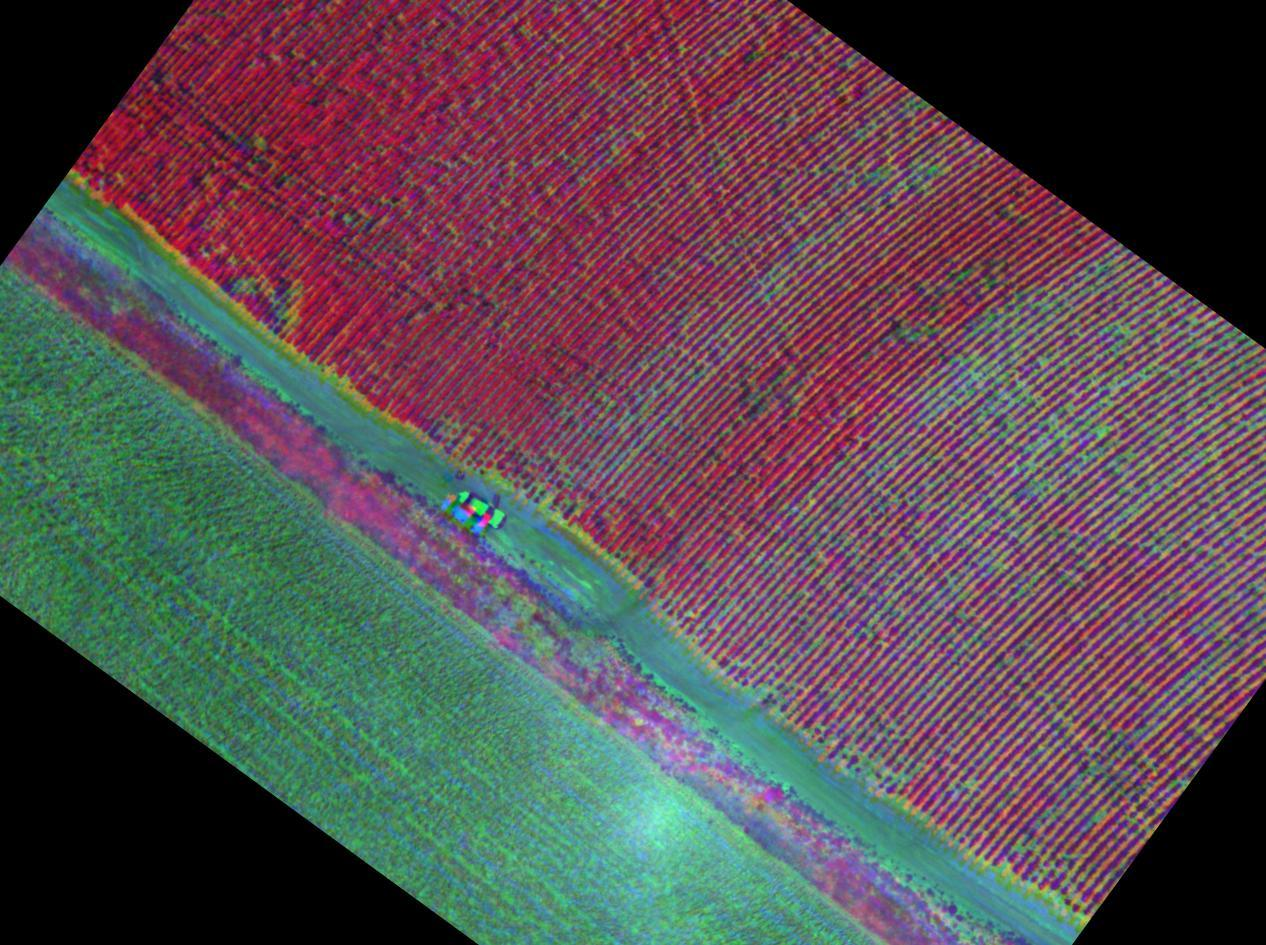dc: (948, 343, 1042, 479), (1046, 325, 1135, 435), (1166, 333, 1237, 448), (1086, 455, 1183, 538), (931, 493, 1008, 596)
